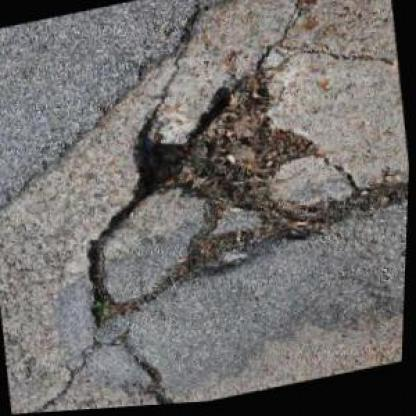pothole: (58, 51, 386, 333)
